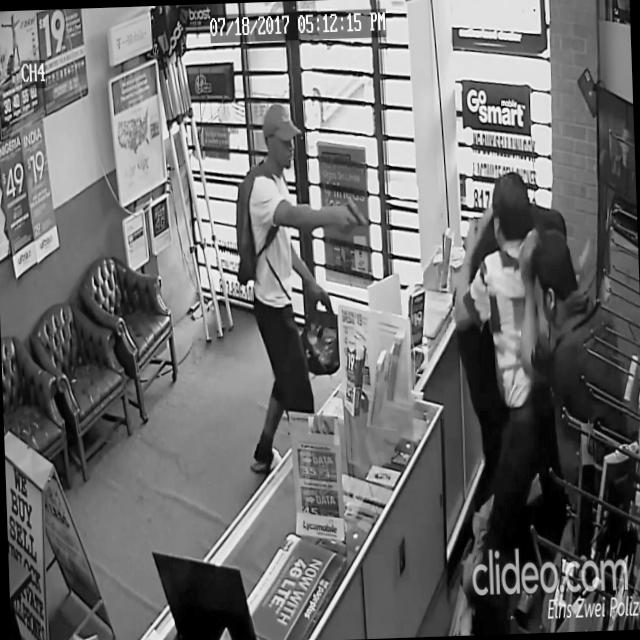gun: (346, 193, 368, 230)
person: (448, 168, 588, 635), (513, 220, 640, 633), (447, 195, 578, 529)
person with a gun: (230, 96, 376, 470)
